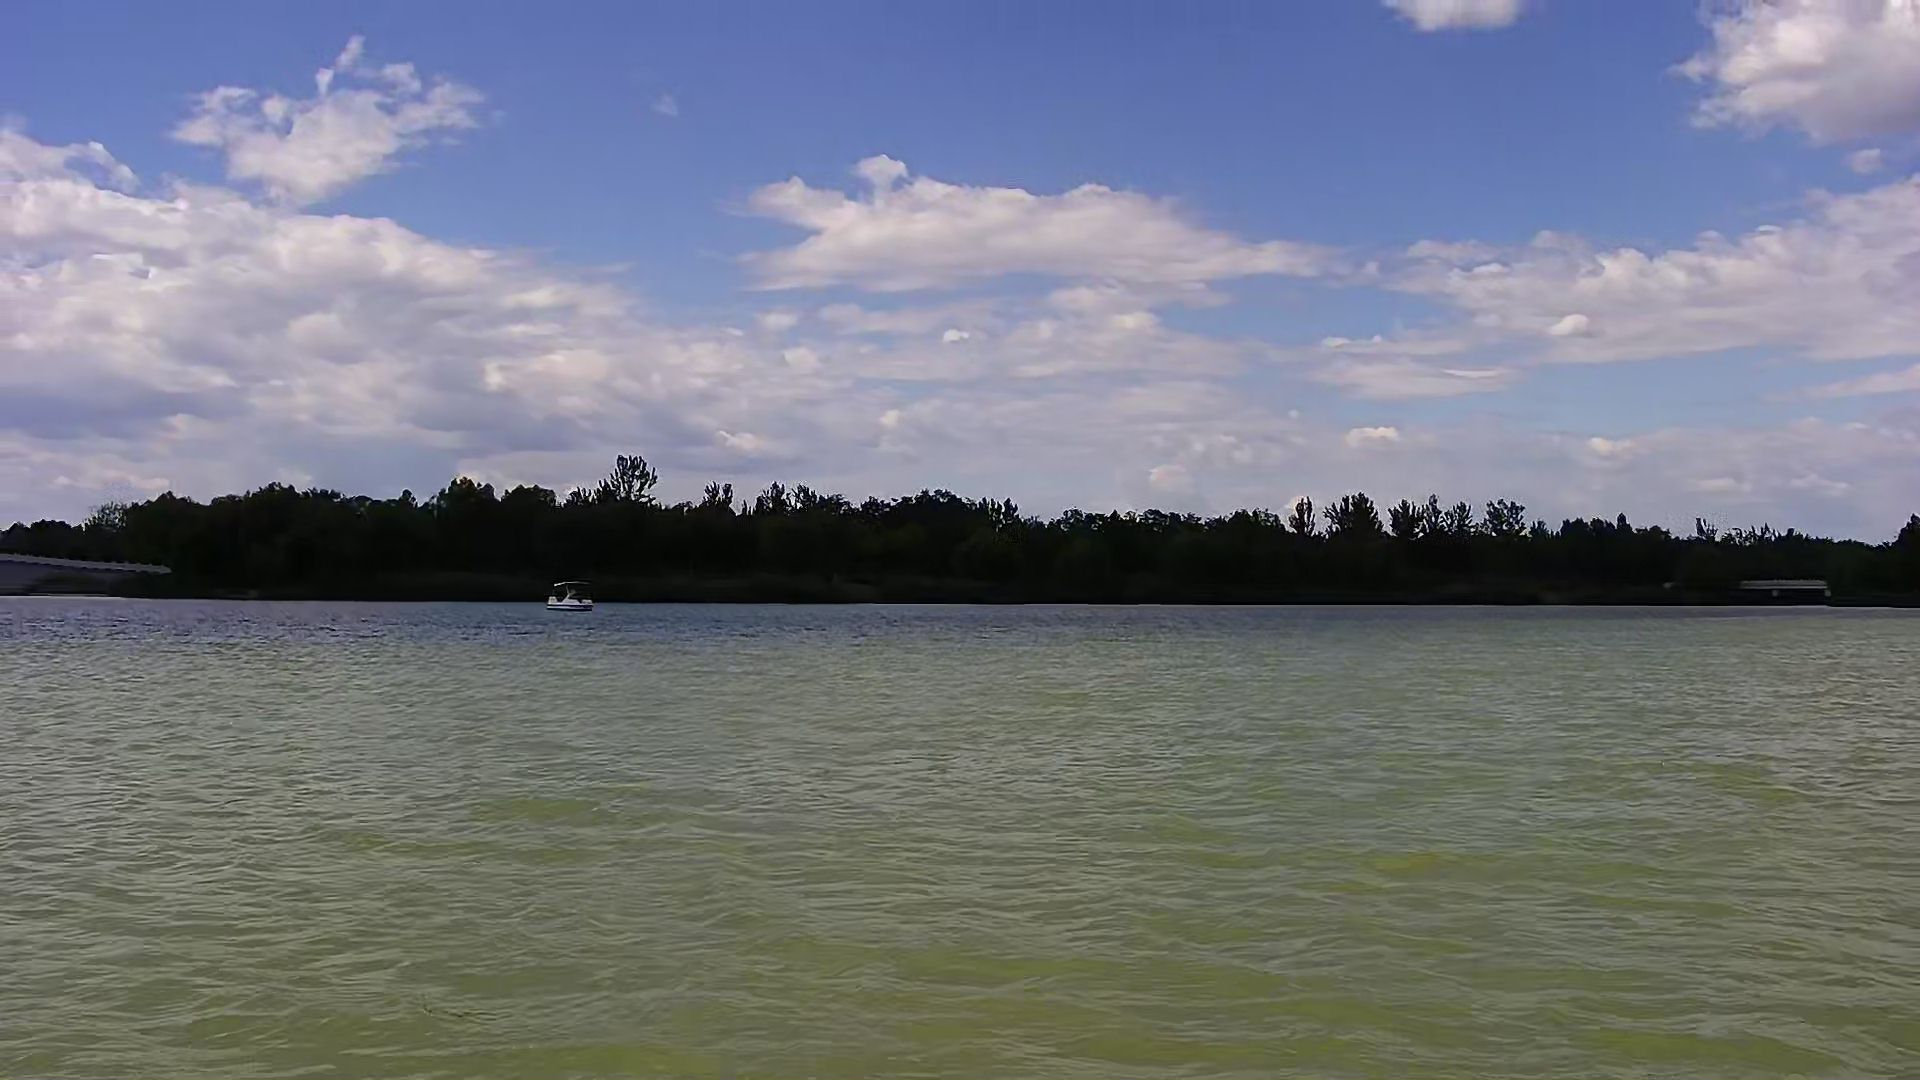boat: (538, 574, 607, 620)
